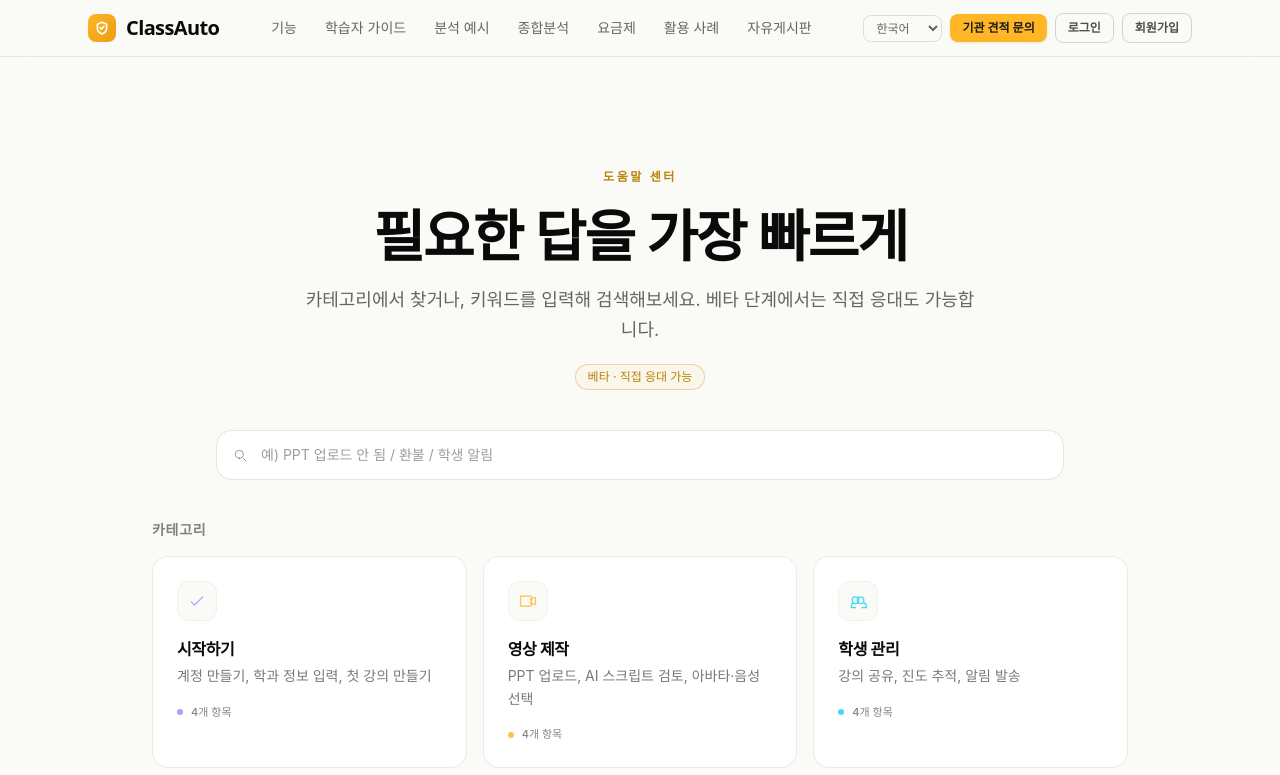
Test: HelpContent › shows the 'no results' fallback for unmatched queries
The image size is (1280, 775).
Step 1. Type "양자컴퓨팅" into the search field named "도움말 검색" → (640, 455), box x1=216 y1=430 x2=1064 y2=480
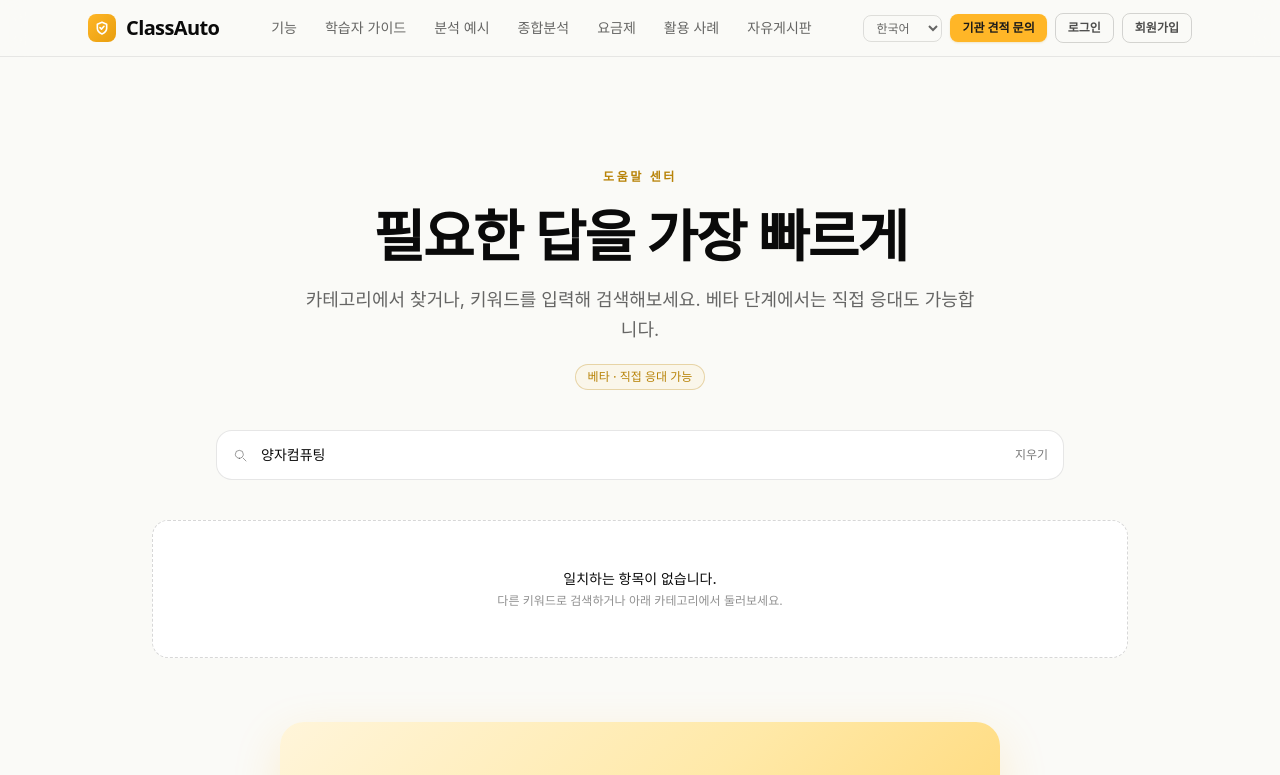
Expected: the text "일치하는 항목이 없습니다." is shown, x1=563 y1=570 x2=717 y2=587
